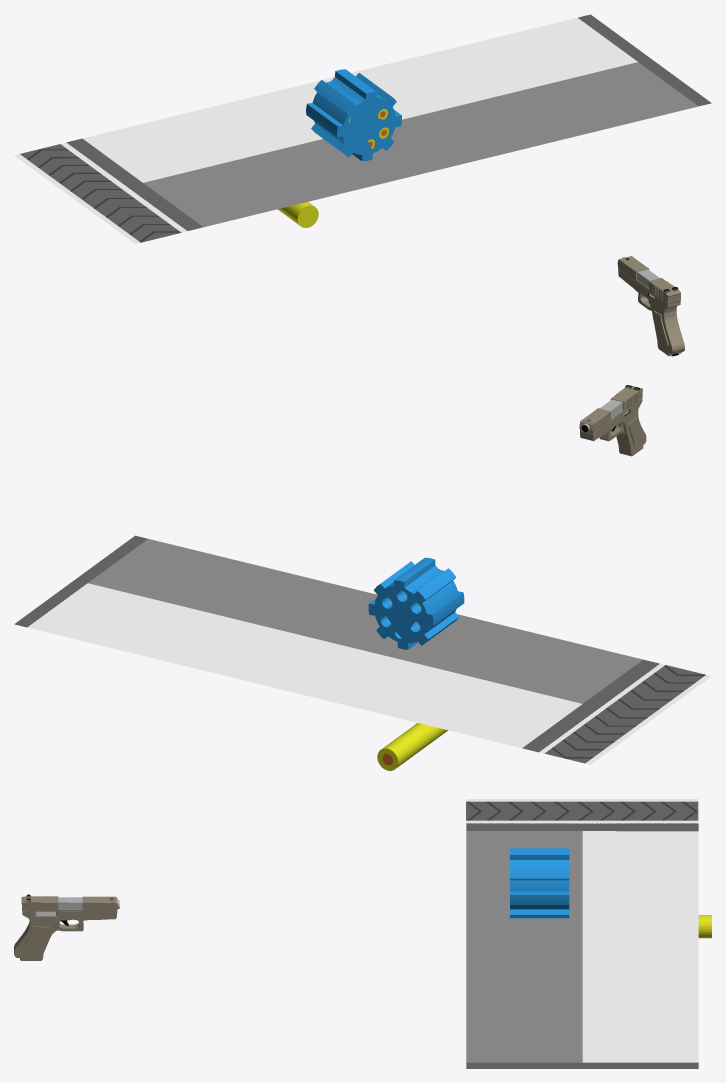
The model's file is assets 1.fbx.
3 renders of one model, top to bottom at view 1: azimuth 30°, elevation 25°; view 2: azimuth 150°, elevation 25°; view 3: azimuth 270°, elevation 25°, orthographic. The views are drawn at different scales.
Parts seen in each view (by area): view 1: Plane.002, Magazine, Cube.007, Cylinder.001; view 2: Plane.002, Magazine, Cube.007, Cylinder.001; view 3: Plane.002, Magazine, Cube.007.
Part boxes in pixels (left/top/right/bottom): Plane.002: left=14, top=14, right=711, bottom=243; Magazine: left=306, top=69, right=401, bottom=161; Cube.007: left=617, top=256, right=684, bottom=356; Cylinder.001: left=278, top=202, right=318, bottom=227; Plane.002: left=14, top=535, right=711, bottom=764; Magazine: left=368, top=557, right=464, bottom=649; Cube.007: left=579, top=385, right=646, bottom=456; Cylinder.001: left=377, top=723, right=447, bottom=770; Plane.002: left=466, top=799, right=698, bottom=1068; Magazine: left=510, top=848, right=569, bottom=918; Cube.007: left=14, top=894, right=119, bottom=960.
Size of the model in its own units: 1098 by 219 by 1201.
